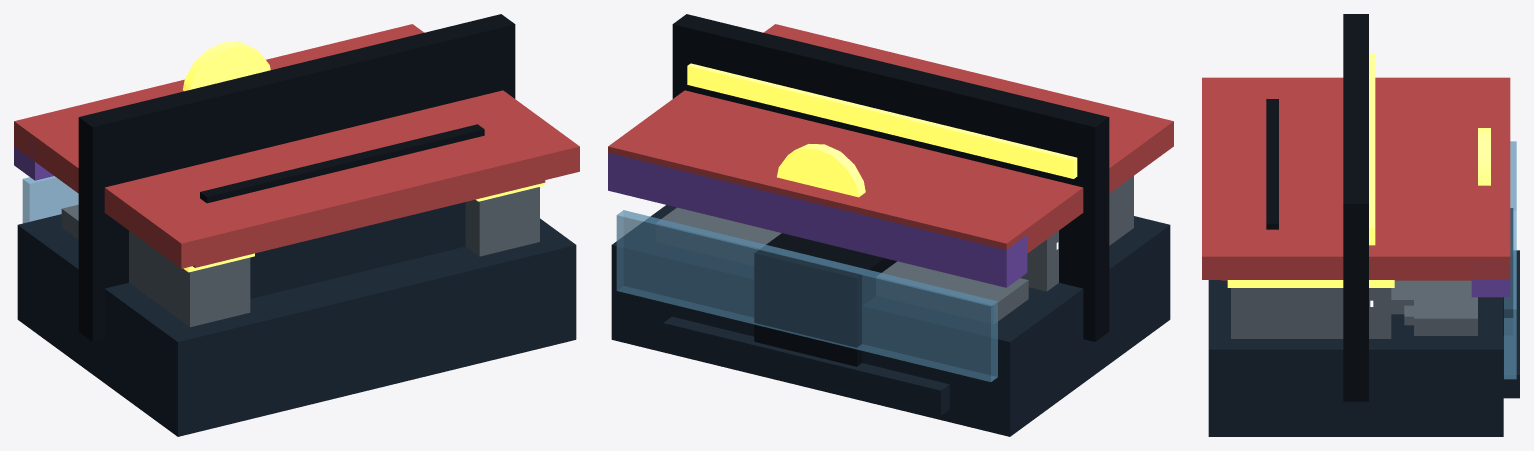
File: terminal-props.glb
3 renders of one model, left to right at view 1: azimuth 30°, elevation 25°; view 2: azimuth 150°, elevation 25°; view 3: azimuth 270°, elevation 25°, orthographic. The views are drawn at different scales.
Visible parts, largest first — view 1: Duty_Base, Snack_Canopy, Screen, Cafe_Backbar, Duty_Shelf_-24, Duty_Shelf_24, Snack_Menu_Board, Cafe_Sign, Duty_Glass, Cafe_Canopy, Duty_Header; view 2: Duty_Base, Snack_Canopy, Duty_Glass, Screen, Duty_Header, Xray, Snack_Service_Counter, Belt, Header, Cafe_Sign, Duty_Shelf_-24; view 3: Snack_Canopy, Duty_Base, Screen, Duty_Shelf_24, Snack_Service_Counter, Duty_Glass, Snack_Menu_Board, Belt, Header, Duty_Light_24, Duty_Header, Xray (+2 smaller).
Boxes of the visible parts, x1,y1,x2,y2 form: Duty_Base: (17,214,576,436); Snack_Canopy: (14,24,579,268); Screen: (78,14,515,341); Cafe_Backbar: (250,202,465,298); Duty_Shelf_-24: (129,231,250,327); Duty_Shelf_24: (465,187,539,256); Snack_Menu_Board: (200,124,484,203); Cafe_Sign: (183,41,270,91); Duty_Glass: (22,176,78,223); Cafe_Canopy: (193,180,545,267); Duty_Header: (14,137,53,180); Duty_Base: (611,205,1170,436); Snack_Canopy: (608,24,1173,253); Duty_Glass: (616,210,997,381); Screen: (672,14,1109,341); Duty_Header: (608,153,1027,287); Xray: (754,233,896,366); Snack_Service_Counter: (656,207,1028,324); Belt: (663,316,949,415); Header: (687,63,1077,178); Cafe_Sign: (777,144,865,197); Duty_Shelf_-24: (1020,176,1133,291); Snack_Canopy: (1202,77,1510,279); Duty_Base: (1208,280,1503,436); Screen: (1343,14,1368,401); Duty_Shelf_24: (1231,288,1391,338); Snack_Service_Counter: (1414,280,1477,335); Duty_Glass: (1504,141,1516,379); Snack_Menu_Board: (1266,99,1278,229); Belt: (1503,250,1519,398); Header: (1369,54,1375,245); Duty_Light_24: (1227,280,1394,287); Duty_Header: (1471,263,1510,297); Xray: (1503,208,1513,335).
Size of what is drawn, in the model's own units: 7 by 4.1 by 4.95.
